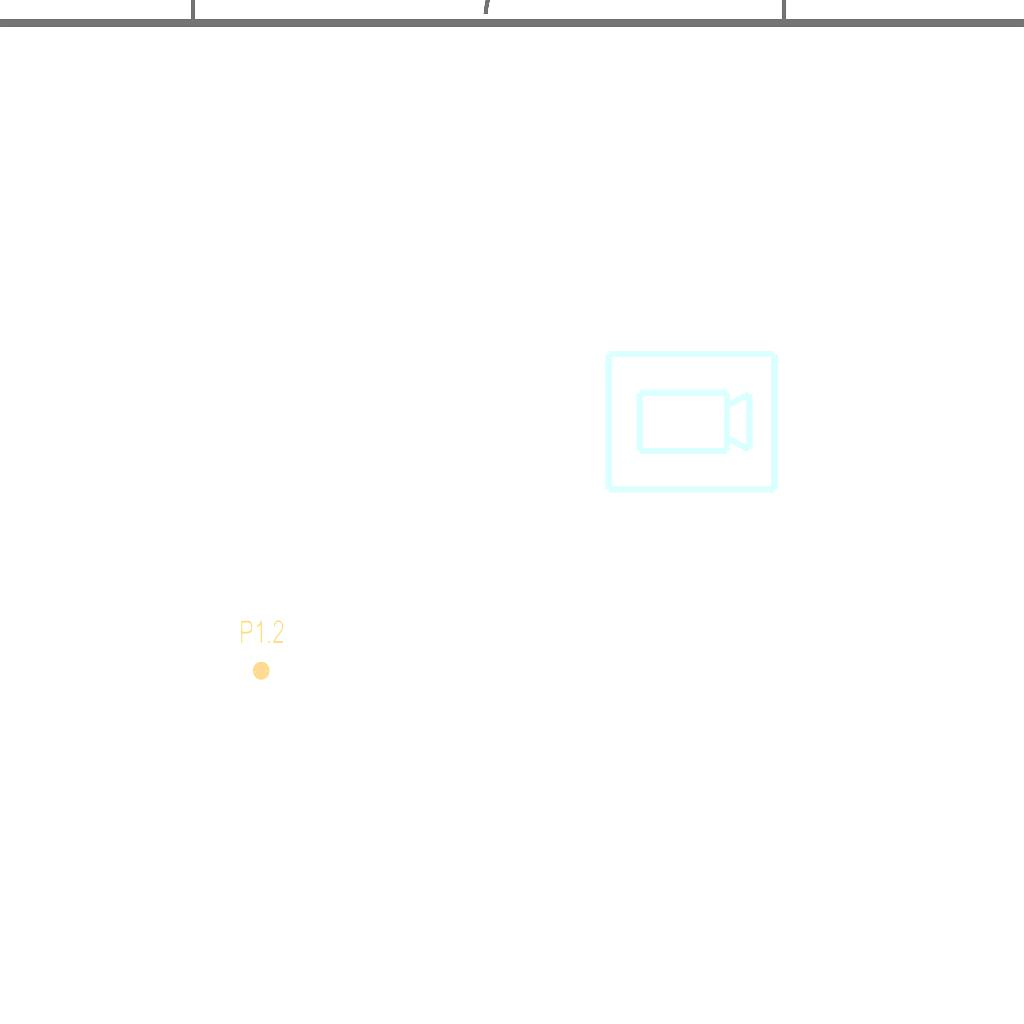Downlight_LED_Einbauleuchten_Flur: (239, 618, 285, 682)
KFO_Kamera_mit_Festobjektiv: (600, 346, 782, 500)
